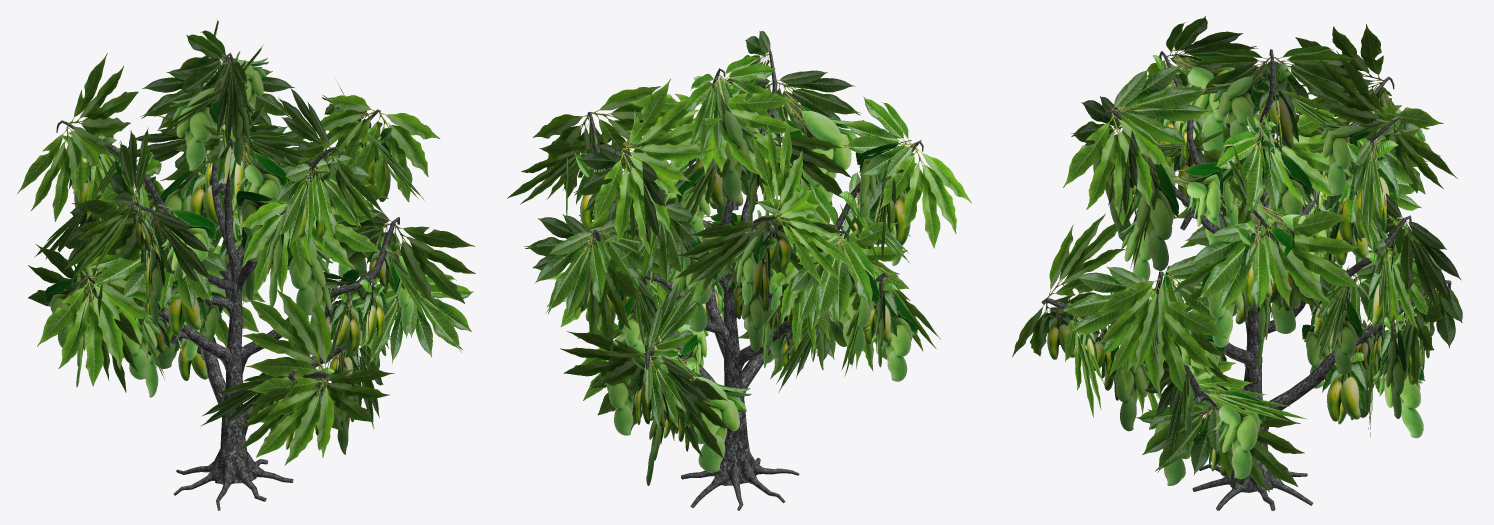
The model's file is realmangotree.glb.
3 views of the same model, side by side, from view 1: azimuth 30°, elevation 25°; view 2: azimuth 150°, elevation 25°; view 3: azimuth 270°, elevation 25° (orthographic). The views are drawn at different scales.
Parts seen in each view (by area): view 1: Mang_Tree_01_Mango_Leaf_01_Mat_0, Mang_Tree_01_Mango_Fruit_01_Mat_0, Mang_Tree_01_Mango_Leaf_02_Mat_0, Mang_Tree_01_Mango_Bark_BC02_Mat_0; view 2: Mang_Tree_01_Mango_Leaf_01_Mat_0, Mang_Tree_01_Mango_Leaf_02_Mat_0, Mang_Tree_01_Mango_Fruit_01_Mat_0, Mang_Tree_01_Mango_Bark_BC02_Mat_0; view 3: Mang_Tree_01_Mango_Fruit_01_Mat_0, Mang_Tree_01_Mango_Leaf_01_Mat_0, Mang_Tree_01_Mango_Leaf_02_Mat_0, Mang_Tree_01_Mango_Bark_BC02_Mat_0.
Part boxes in pixels (<box>): Mang_Tree_01_Mango_Leaf_01_Mat_0: <box>17,20,475,465</box>; Mang_Tree_01_Mango_Fruit_01_Mat_0: <box>44,51,420,454</box>; Mang_Tree_01_Mango_Leaf_02_Mat_0: <box>34,30,473,428</box>; Mang_Tree_01_Mango_Bark_BC02_Mat_0: <box>56,52,399,510</box>; Mang_Tree_01_Mango_Leaf_01_Mat_0: <box>507,57,971,458</box>; Mang_Tree_01_Mango_Leaf_02_Mat_0: <box>524,31,913,430</box>; Mang_Tree_01_Mango_Fruit_01_Mat_0: <box>566,76,921,485</box>; Mang_Tree_01_Mango_Bark_BC02_Mat_0: <box>587,49,923,510</box>; Mang_Tree_01_Mango_Fruit_01_Mat_0: <box>1042,49,1431,485</box>; Mang_Tree_01_Mango_Leaf_01_Mat_0: <box>1012,24,1457,492</box>; Mang_Tree_01_Mango_Leaf_02_Mat_0: <box>1058,16,1462,475</box>; Mang_Tree_01_Mango_Bark_BC02_Mat_0: <box>1041,49,1451,510</box>.
Bounding box in the file's own units: 6.89 × 7 × 6.48.
Materials: 4 (4 with a texture image).
